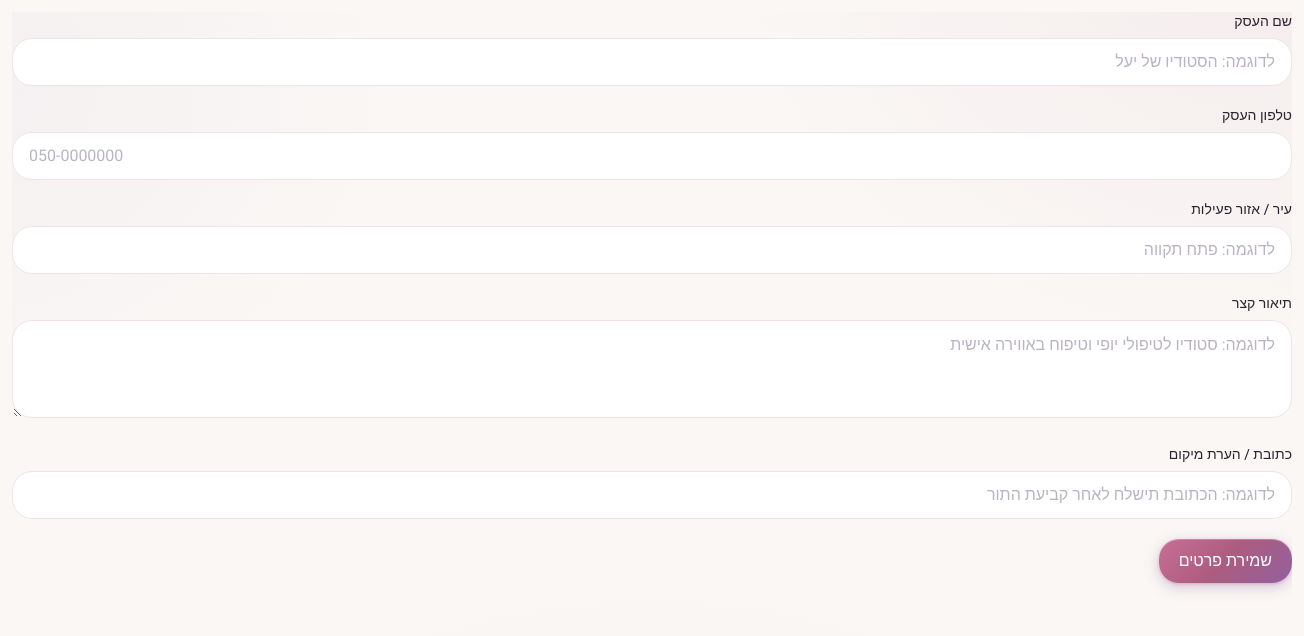
Test: BusinessDetailsForm › renders a field error returned for name
What coordinates should you click on to do the following:
click the button "שמירת פרטים"
I would click on:
 (1225, 561)
Its box is top-left (1159, 539), bottom-right (1292, 583).
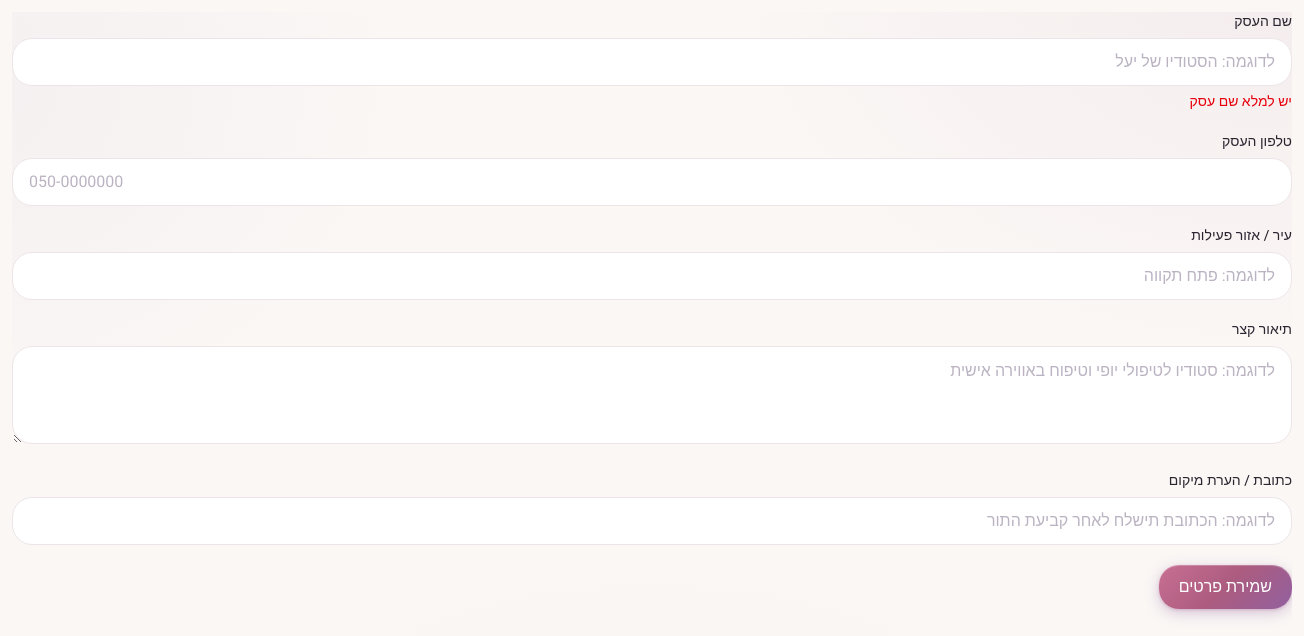
Check: the text "יש למלא שם עסק" is shown, box top-left (1190, 91), bottom-right (1292, 112)
